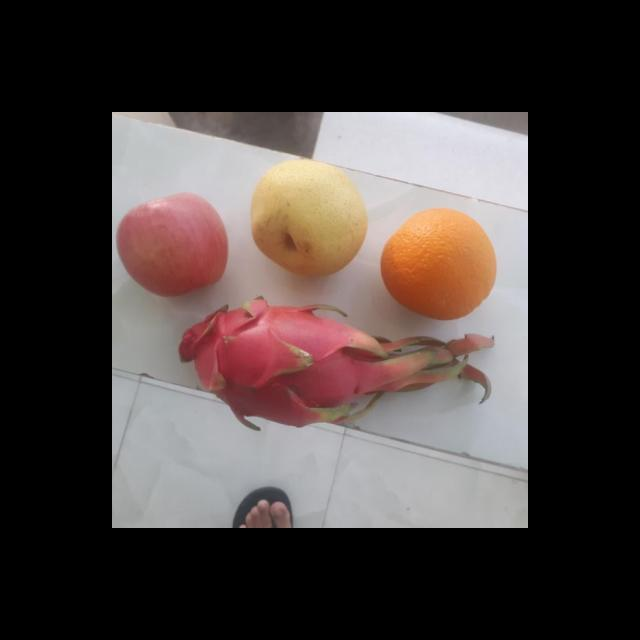apple: (112, 192, 228, 296)
orange: (378, 204, 499, 320)
pear: (244, 161, 370, 277)
pitaya: (184, 303, 370, 422)
